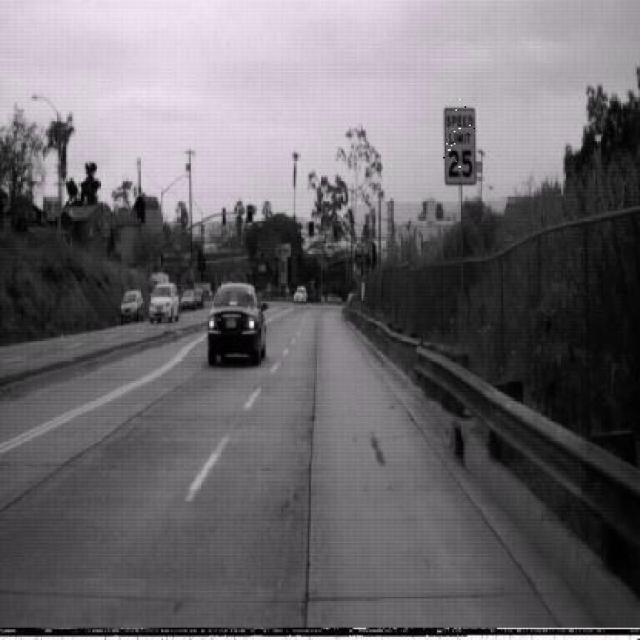speedLimit25: (443, 106, 477, 186)
